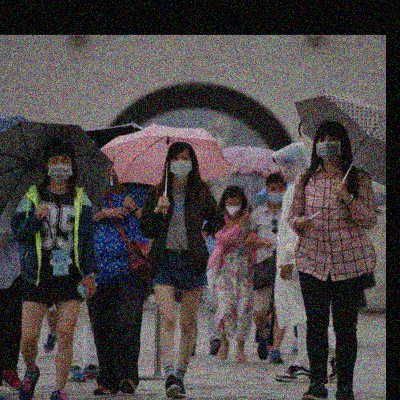with_mask: (45, 155, 72, 182), (315, 134, 341, 162), (168, 151, 193, 180), (267, 183, 285, 203), (224, 199, 241, 217)
